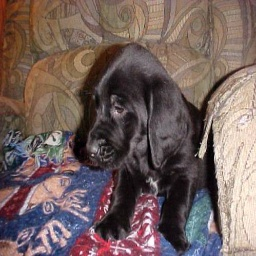dog: (69, 41, 206, 253)
